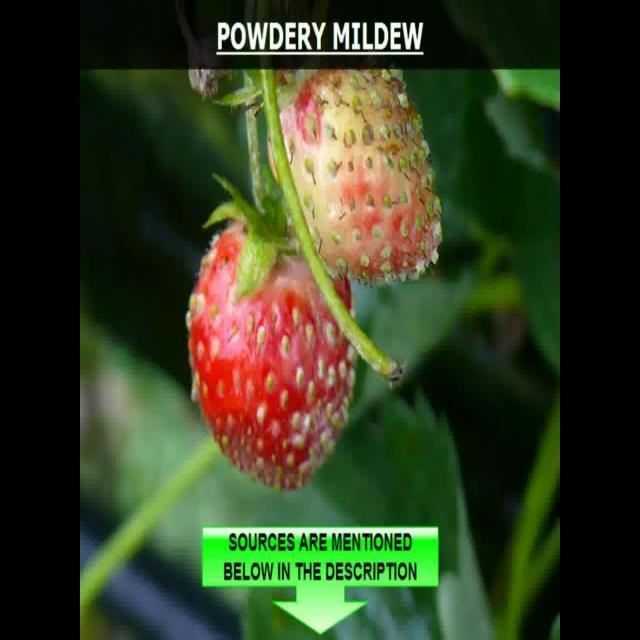Oído: (186, 227, 356, 492), (268, 69, 447, 287)
